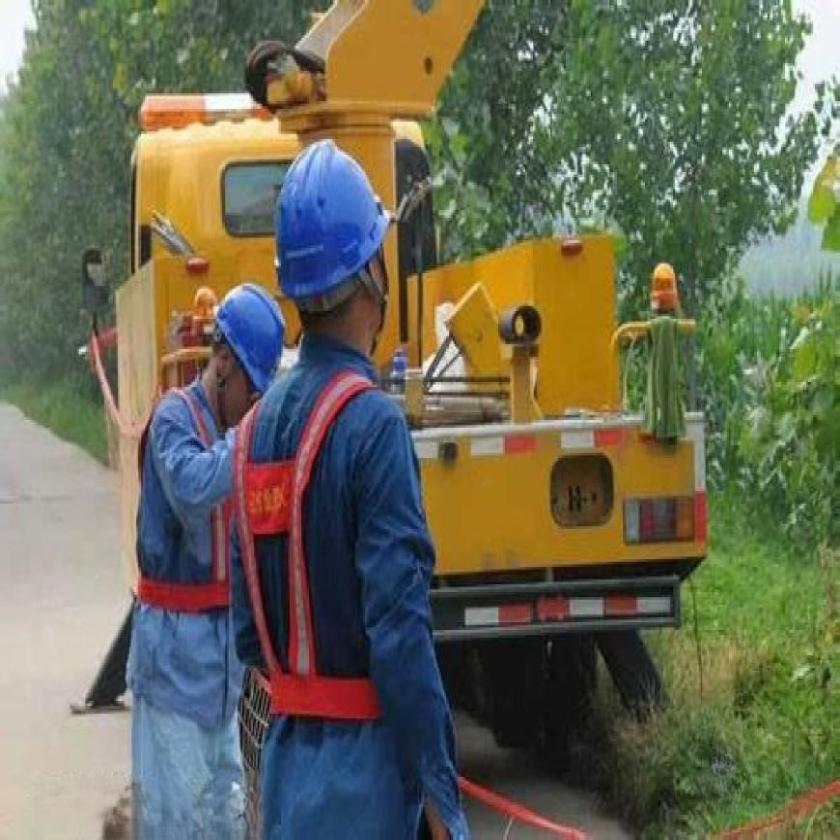Con_casco: (274, 132, 404, 388), (198, 277, 290, 427)
